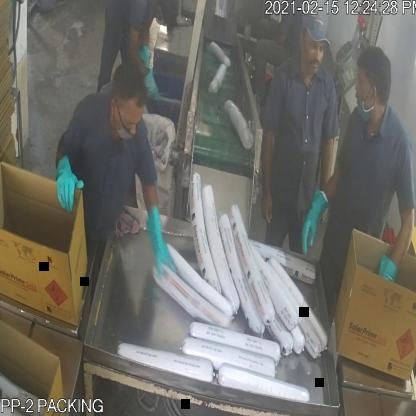glove: (134, 187, 182, 292), (45, 145, 92, 218), (298, 180, 334, 258)
no_glove: (256, 122, 280, 232)
